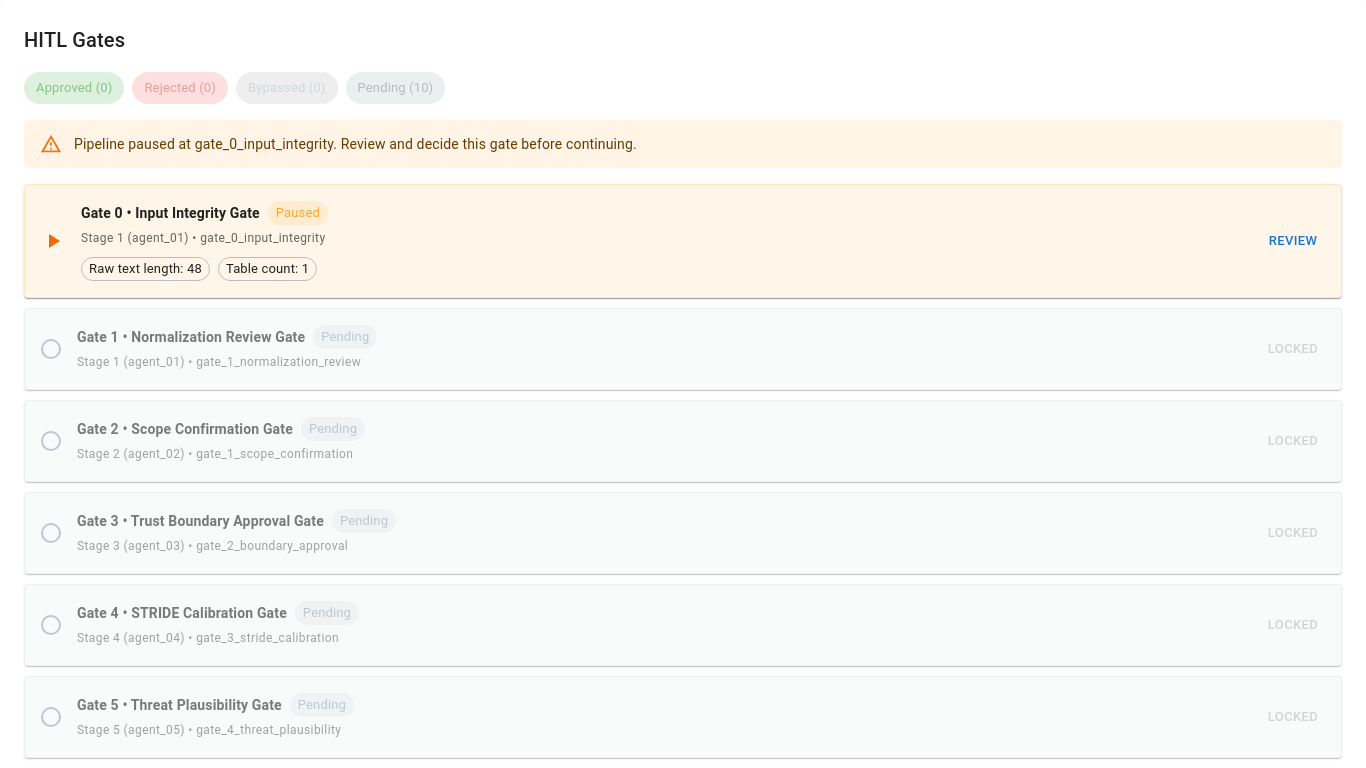
Test: HITLGateManager › shows Gate 0 preflight details when parsed input data is available
The width and height of the screenshot is (1366, 768).
Click the button "Review".
click(1293, 241)  # box [1261,226,1325,256]
(page scrolled)
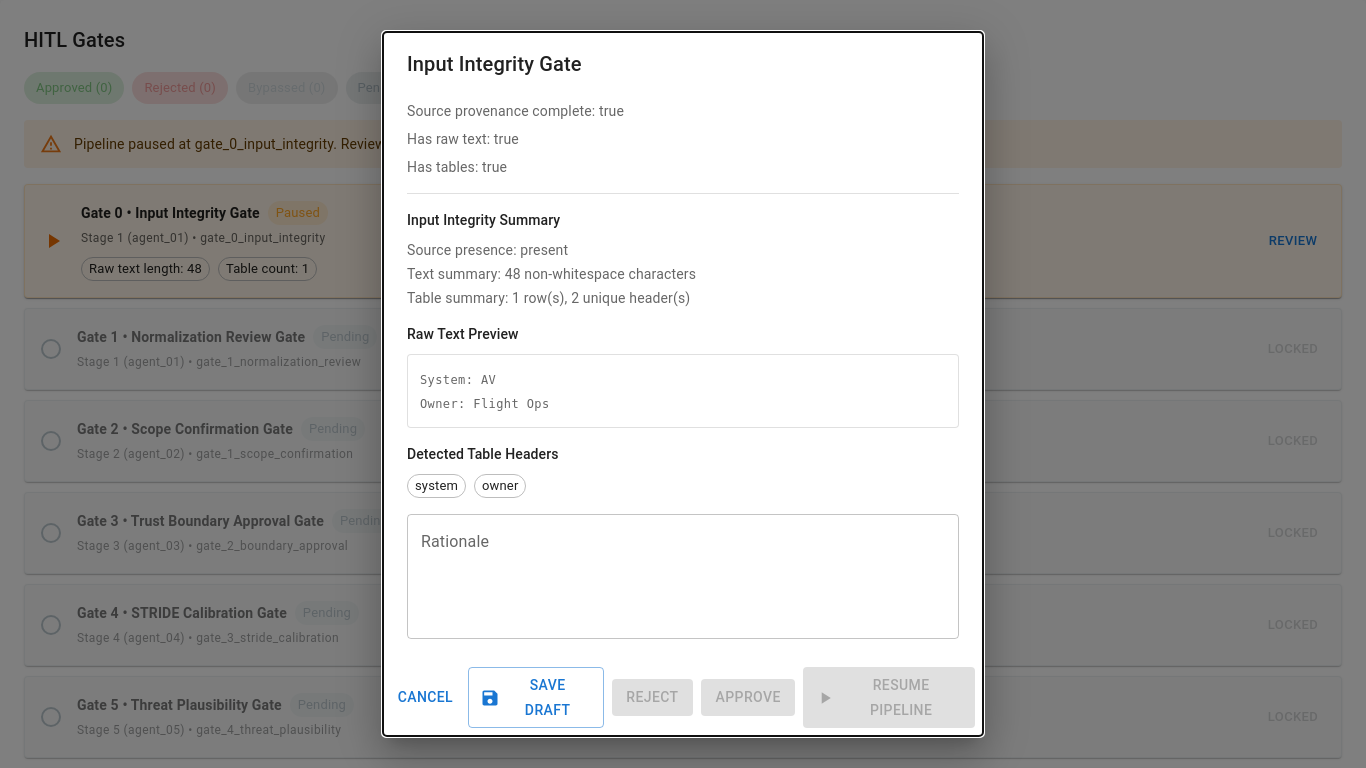
Check: the heading "Input Integrity Summary" is shown, box [407,212,560,228]
Check: the text "Source presence: present" is shown, box [407,242,568,258]
Check: the text "Text summary: 48 non-whitespace characters" is shown, box [407,266,696,282]
